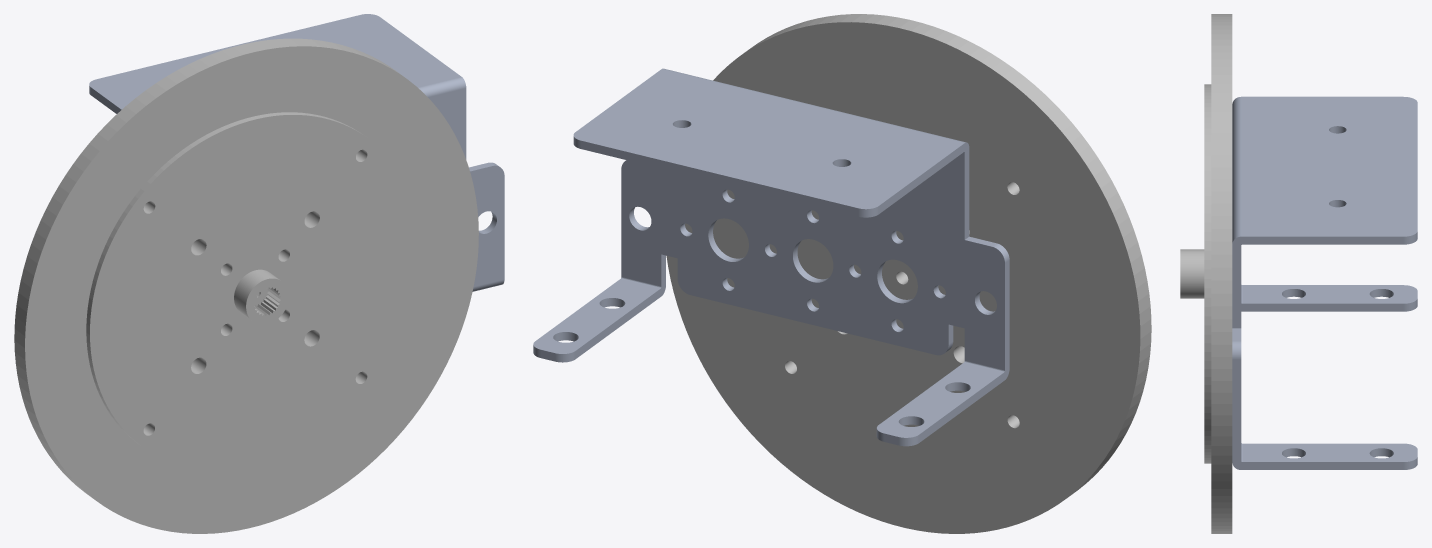
The picture shows the model from 3 angles, left to right: view 1: azimuth 30°, elevation 25°; view 2: azimuth 150°, elevation 25°; view 3: azimuth 270°, elevation 25°; orthographic projection. The views are drawn at different scales.
Parts seen in each view (by area): view 1: node1, node0; view 2: node1, node0; view 3: node0, node1.
Part boxes in pixels (x1,y1,x2,y2): node1: (14, 38, 478, 533); node0: (89, 14, 504, 291); node1: (666, 14, 1151, 533); node0: (533, 68, 1009, 446); node0: (1232, 96, 1417, 469); node1: (1180, 14, 1232, 533).
Bounding box in the file's own units: 0.1015 × 0.0429 × 0.094.
